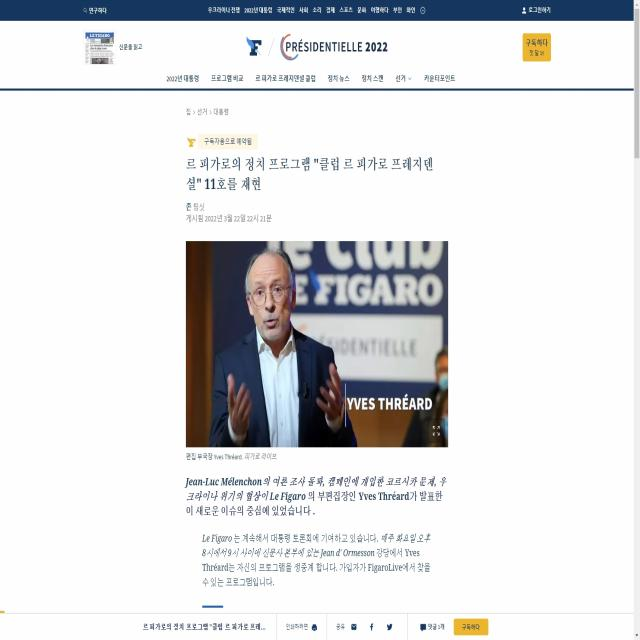menu-panel: (159, 66, 461, 89)
